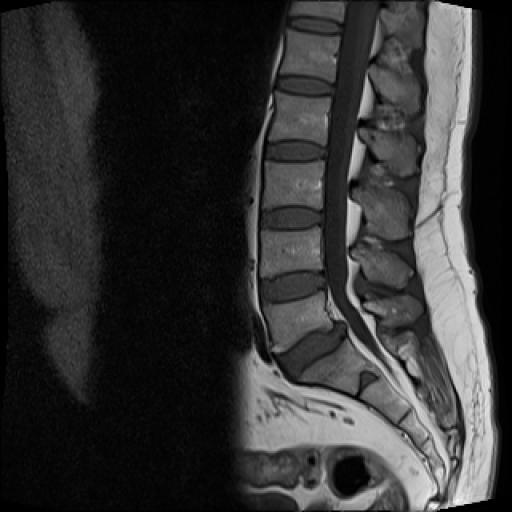L1: (279, 28, 340, 82)
L2: (268, 91, 331, 146)
L3: (264, 161, 324, 210)
L4: (260, 226, 323, 278)
L5: (263, 291, 332, 350)
S1: (296, 338, 383, 396)
